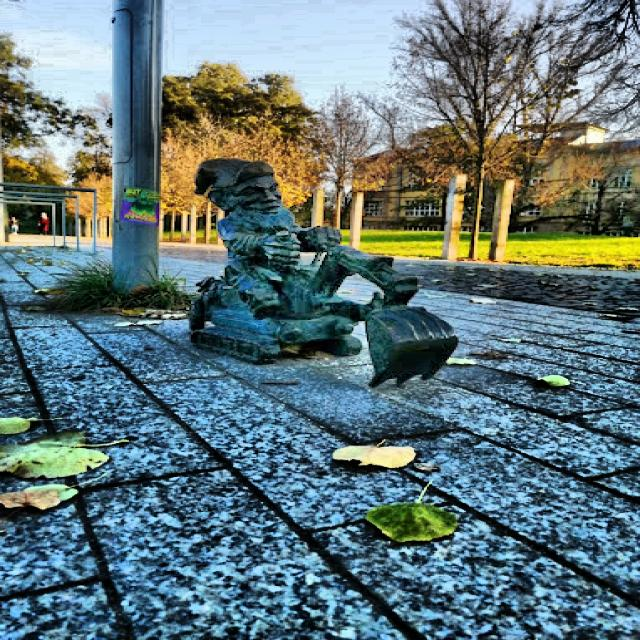Koparkus: (190, 159, 457, 387)
